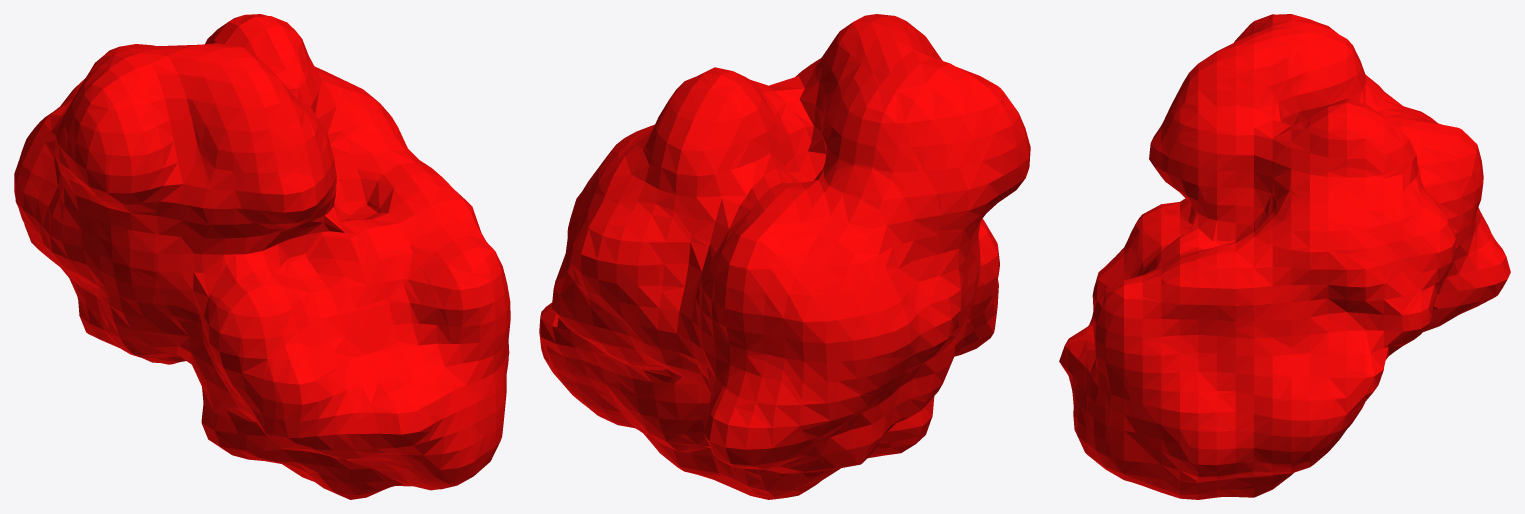
The model's file is waaU_coarse.dae.
The picture shows the model from 3 angles, left to right: view 1: azimuth 30°, elevation 25°; view 2: azimuth 150°, elevation 25°; view 3: azimuth 270°, elevation 25°; orthographic projection. The views are drawn at different scales.
Parts seen in each view (by area): view 1: waaU; view 2: waaU; view 3: waaU.
Part boxes in pixels (x1,y1,x2,y2): waaU: (14,14,510,499); waaU: (539,14,1030,499); waaU: (1059,14,1510,499).
Size of the model in its own units: 57.13 by 61.22 by 63.85.
